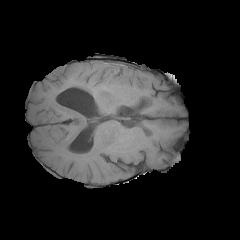glioma: (49, 63, 127, 103)
